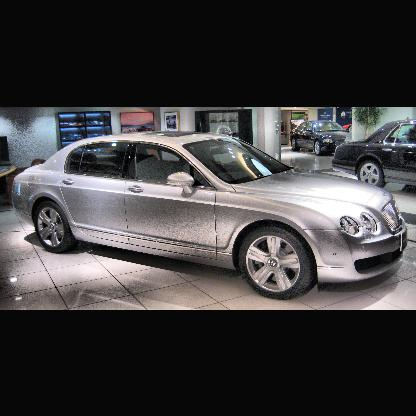Bentley Continental Flying Spur Sedan 2007: (11, 134, 408, 299)
